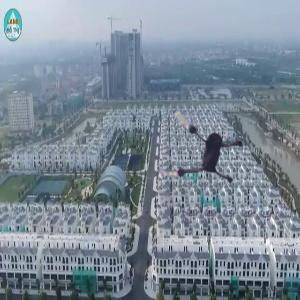drone: (153, 98, 257, 202)
